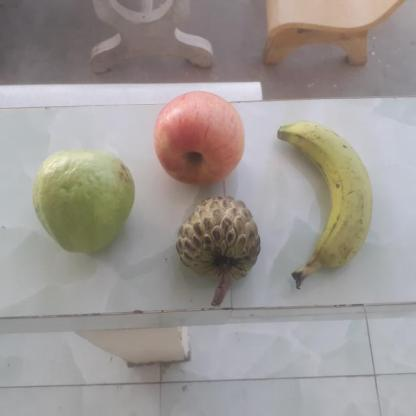annona: (172, 196, 258, 292)
apple: (149, 90, 244, 186)
banana: (276, 123, 370, 276)
guava: (29, 152, 131, 250)
